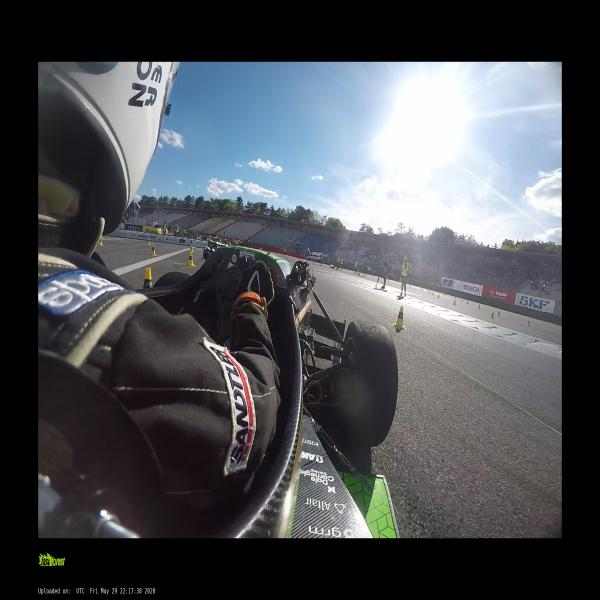yellow_cone: (393, 305, 406, 330), (144, 268, 153, 288), (187, 252, 194, 266), (151, 246, 156, 255), (98, 238, 102, 245), (190, 246, 193, 253), (497, 310, 500, 316), (527, 320, 530, 326), (490, 312, 493, 318), (453, 300, 456, 305), (148, 238, 150, 245), (437, 294, 440, 298), (478, 304, 480, 308), (466, 300, 468, 304), (432, 292, 434, 296), (461, 299, 463, 302), (429, 290, 431, 293)
